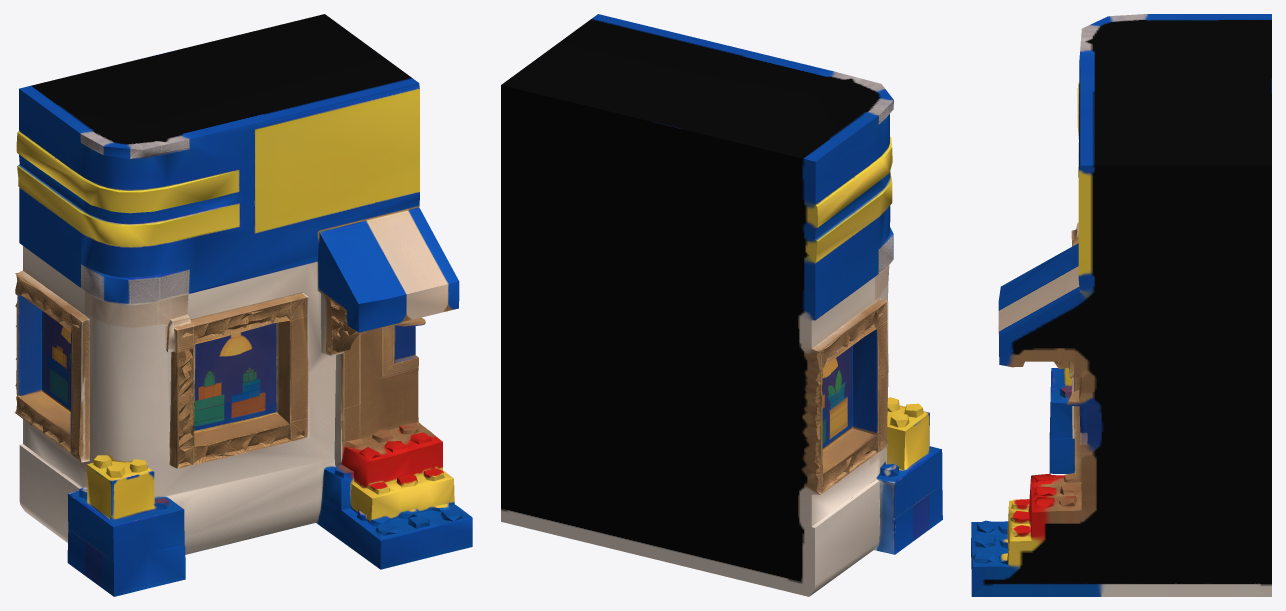
Rendered from 1-ground-floor-front-left.fbx.
The picture shows the model from 3 angles, left to right: view 1: azimuth 30°, elevation 25°; view 2: azimuth 150°, elevation 25°; view 3: azimuth 270°, elevation 25°; orthographic projection. The views are drawn at different scales.
Parts seen in each view (by area): view 1: ground-floor-front-left; view 2: ground-floor-front-left; view 3: ground-floor-front-left.
Part boxes in pixels (box(x1,y1,x2,y2)): ground-floor-front-left: box(14, 14, 472, 596); ground-floor-front-left: box(501, 14, 942, 596); ground-floor-front-left: box(971, 14, 1271, 596).
Bounding box in the file's own units: 3942 × 4997 × 3160.
Materials: 1 (1 with a texture image).
